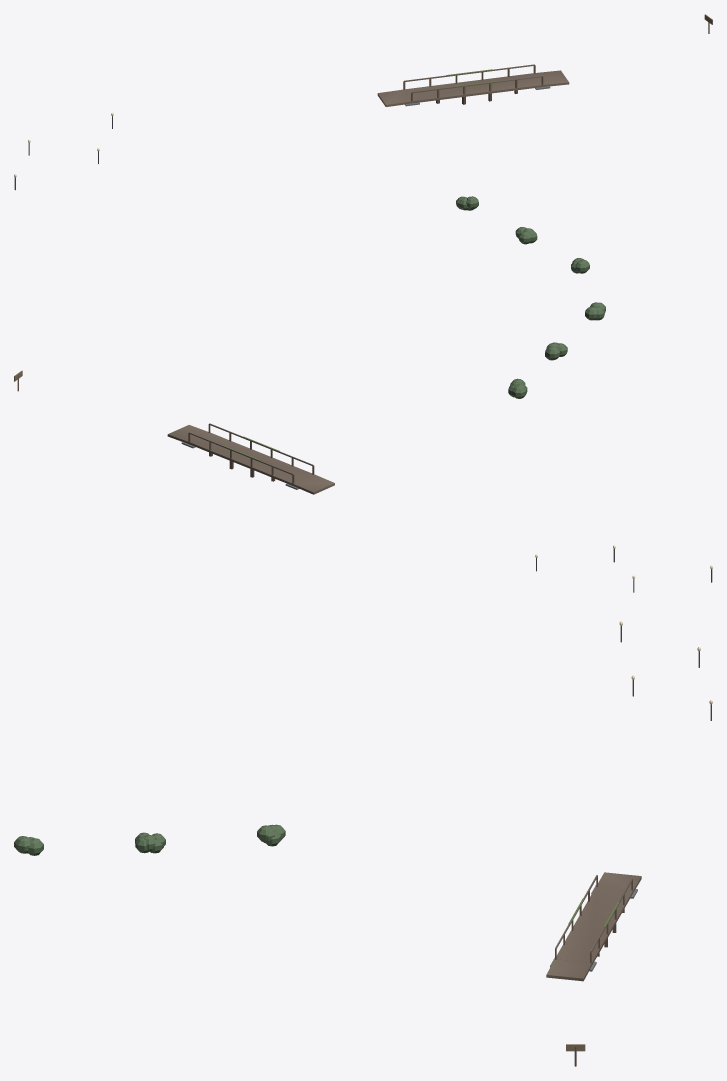
File: Mist_Details.fbx
The picture shows the model from 3 angles, top to bottom: view 1: azimuth 30°, elevation 25°; view 2: azimuth 150°, elevation 25°; view 3: azimuth 270°, elevation 25°; orthographic projection. The views are drawn at different scales.
Parts seen in each view (by area): view 1: Mist_Details; view 2: Mist_Details; view 3: Mist_Details.
Boxes of the visible parts, box(x1,y1,x2,y2) form: Mist_Details: box(14, 14, 712, 273); Mist_Details: box(14, 302, 712, 592); Mist_Details: box(14, 621, 712, 1066).
Size of the model in its own units: 84.91 by 3.53 by 58.27.
